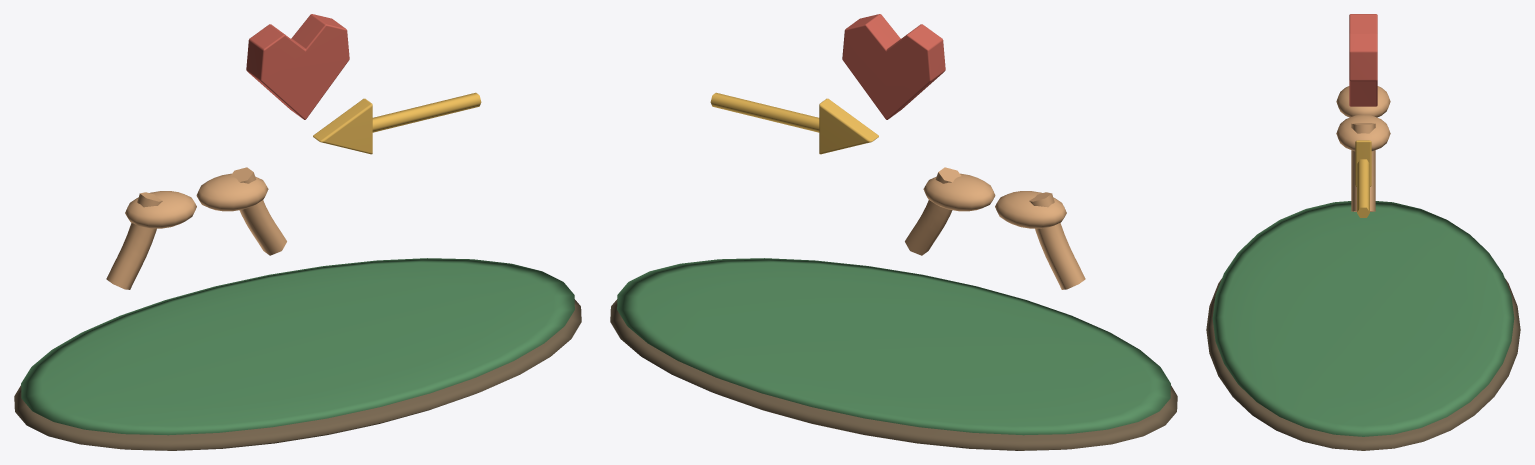
Rendered from complete-second-received-arrival.glb.
3 renders of one model, left to right at view 1: azimuth 30°, elevation 25°; view 2: azimuth 150°, elevation 25°; view 3: azimuth 270°, elevation 25°, orthographic. The views are drawn at different scales.
Parts seen in each view (by area): view 1: complete-second-received-arrival_surface_01, complete-second-received-arrival_surface_00, complete-second-received-arrival_surface_02, complete-second-received-arrival_surface_04, complete-second-received-arrival_surface_03; view 2: complete-second-received-arrival_surface_01, complete-second-received-arrival_surface_00, complete-second-received-arrival_surface_02, complete-second-received-arrival_surface_04, complete-second-received-arrival_surface_03; view 3: complete-second-received-arrival_surface_01, complete-second-received-arrival_surface_00, complete-second-received-arrival_surface_02, complete-second-received-arrival_surface_04, complete-second-received-arrival_surface_03.
Boxes of the visible parts, <box> form: complete-second-received-arrival_surface_01: <box>21,258,574,435</box>; complete-second-received-arrival_surface_00: <box>14,299,581,450</box>; complete-second-received-arrival_surface_02: <box>106,167,286,289</box>; complete-second-received-arrival_surface_04: <box>246,14,349,119</box>; complete-second-received-arrival_surface_03: <box>313,92,481,154</box>; complete-second-received-arrival_surface_01: <box>617,258,1170,435</box>; complete-second-received-arrival_surface_00: <box>610,299,1177,450</box>; complete-second-received-arrival_surface_02: <box>905,167,1085,289</box>; complete-second-received-arrival_surface_04: <box>842,14,945,119</box>; complete-second-received-arrival_surface_03: <box>710,92,878,154</box>; complete-second-received-arrival_surface_01: <box>1212,201,1514,436</box>; complete-second-received-arrival_surface_00: <box>1206,278,1520,450</box>; complete-second-received-arrival_surface_02: <box>1336,86,1390,211</box>; complete-second-received-arrival_surface_04: <box>1349,14,1377,106</box>; complete-second-received-arrival_surface_03: <box>1355,140,1371,217</box>.
Size of the model in its own units: 4.56 by 2.82 by 2.5.
